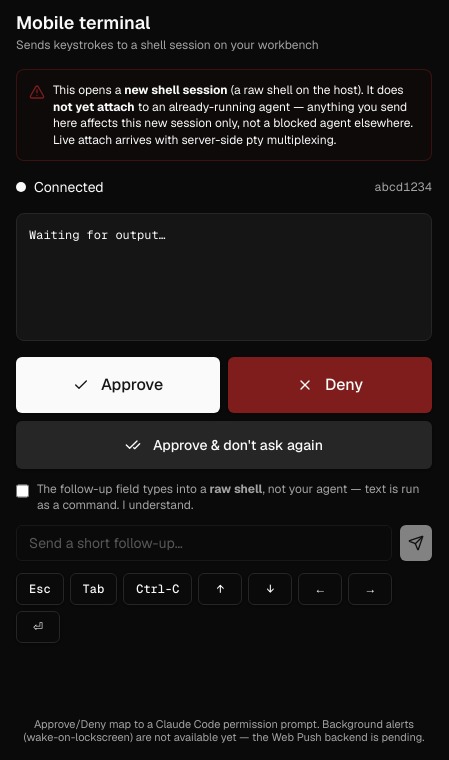
Test: mobile unblock page › keeps the follow-up field disabled until the raw-shell ack is checked
Expected: the field named "follow-up message to the agent" is disabled, [16, 525, 392, 561]
Click the checkbox named "acknowledge follow-up types into a raw shell". click: {"x": 22, "y": 491}
box: [16, 483, 29, 499]
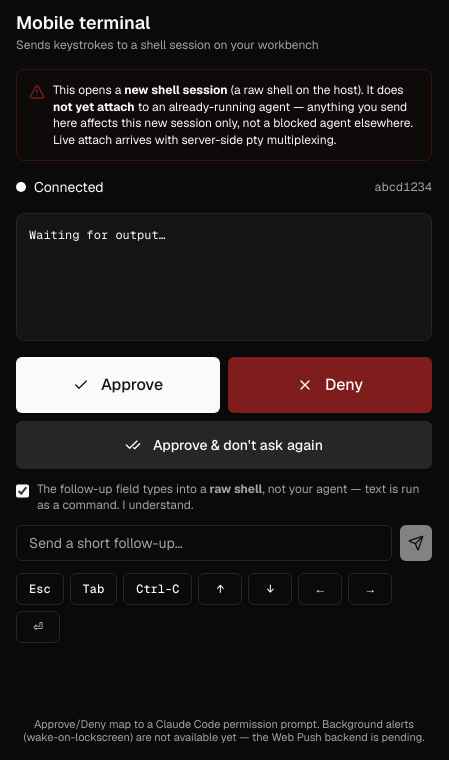
Expected: the field named "follow-up message to the agent" is enabled, [16, 525, 392, 561]
